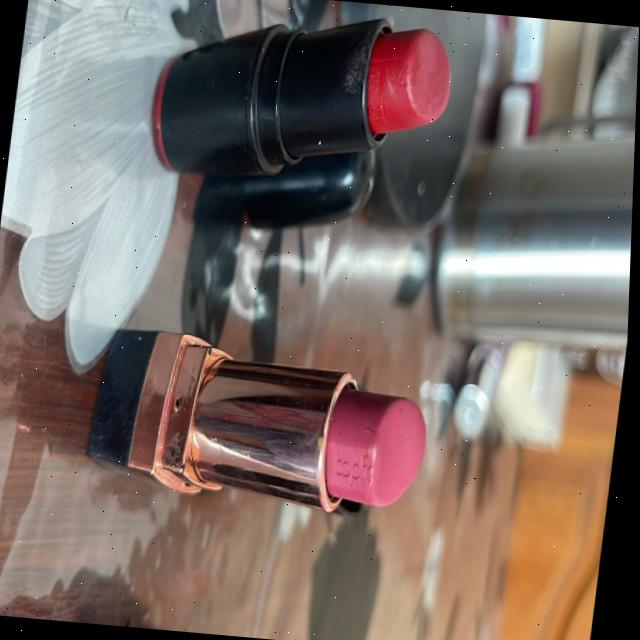lip stick: (127, 1, 481, 233), (94, 344, 450, 528)
